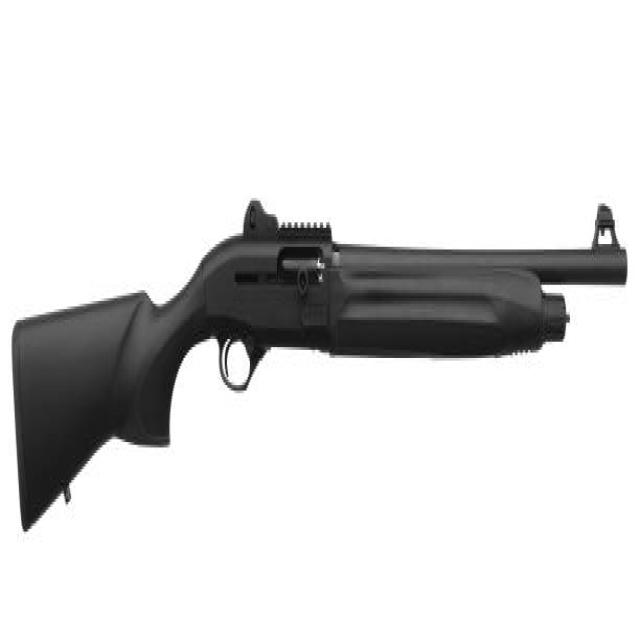rifle: (12, 202, 630, 549)
